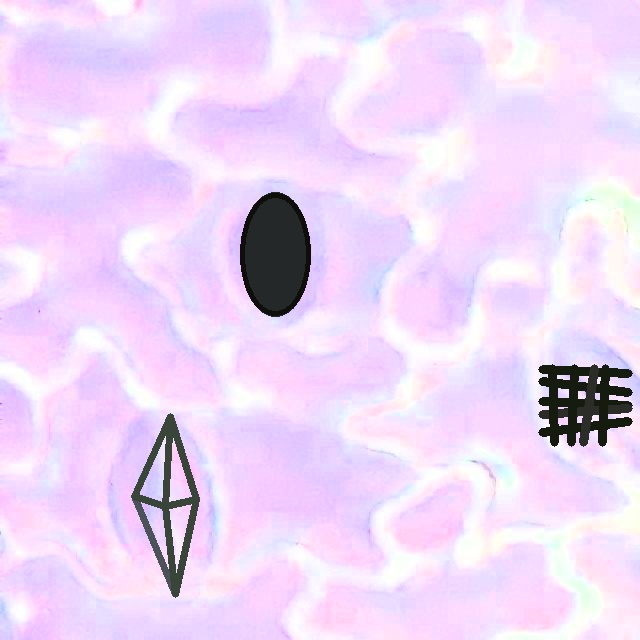close: (240, 192, 310, 316)
open: (131, 414, 199, 597), (538, 365, 631, 445)
